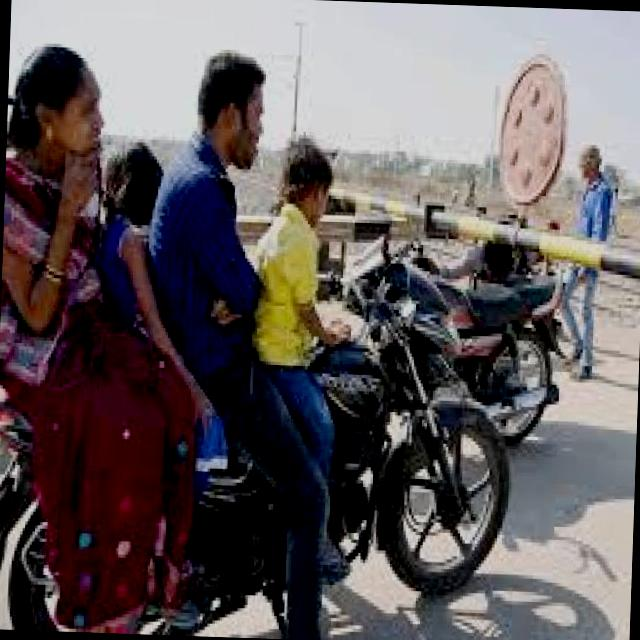motorcycle: (0, 243, 520, 640)
person: (0, 39, 161, 501), (132, 38, 276, 481), (64, 139, 202, 444), (222, 134, 360, 432)
rider_region: (0, 39, 514, 640)
